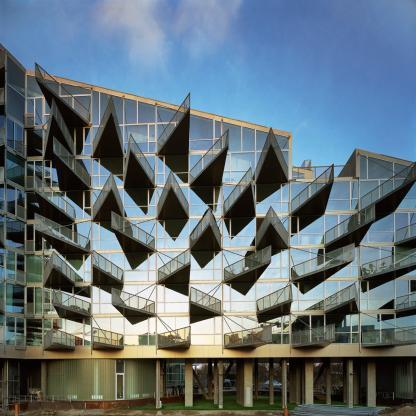Balcony: (34, 62, 90, 128), (360, 161, 416, 213), (292, 242, 355, 282), (188, 128, 230, 187), (324, 201, 376, 248), (34, 212, 90, 254), (290, 162, 334, 215), (53, 135, 91, 192), (157, 91, 190, 155), (34, 173, 75, 224), (92, 95, 124, 158), (43, 97, 75, 159), (255, 126, 289, 184), (111, 210, 155, 253), (361, 247, 416, 281), (224, 245, 272, 283), (123, 132, 155, 188), (157, 169, 189, 219), (223, 166, 255, 215), (93, 171, 124, 221), (256, 204, 289, 250), (189, 206, 221, 251), (111, 287, 155, 317), (157, 246, 191, 284), (223, 324, 272, 349), (256, 284, 294, 316), (361, 326, 416, 348), (43, 250, 75, 287), (53, 288, 92, 318), (291, 323, 335, 349), (92, 249, 123, 285), (325, 282, 359, 314), (189, 286, 221, 316), (293, 165, 356, 180), (157, 325, 191, 349), (43, 328, 75, 351), (92, 327, 124, 349), (394, 223, 416, 245)
Building Outline: (0, 43, 416, 412)
Door: (380, 246, 394, 277), (175, 187, 189, 216), (310, 248, 324, 277), (310, 182, 323, 212), (256, 283, 269, 312), (124, 221, 137, 250), (396, 280, 409, 309), (325, 281, 338, 310), (242, 251, 255, 280), (190, 284, 203, 313), (189, 220, 202, 249), (189, 155, 202, 184), (242, 185, 255, 214), (256, 218, 269, 247), (395, 213, 408, 242), (380, 181, 393, 210), (60, 96, 73, 124), (176, 252, 189, 280), (311, 315, 324, 343), (381, 314, 394, 342), (326, 215, 338, 245), (111, 254, 124, 281), (124, 286, 137, 313), (111, 318, 123, 346), (61, 223, 73, 251), (125, 157, 137, 185), (176, 123, 188, 151), (176, 317, 188, 345), (243, 316, 255, 344), (53, 319, 65, 346), (60, 287, 72, 314), (53, 255, 65, 282), (53, 192, 65, 219), (61, 160, 72, 187), (116, 374, 124, 400)
Facade: (25, 61, 416, 411)
Floor Slab: (25, 209, 416, 223), (25, 242, 416, 254), (25, 178, 359, 192), (25, 276, 416, 286), (25, 149, 289, 160), (26, 343, 416, 349), (26, 124, 91, 129)
Glass Wall: (31, 359, 115, 400), (362, 359, 416, 399), (93, 91, 124, 154), (124, 98, 155, 153), (157, 106, 188, 152), (360, 155, 416, 179), (45, 128, 91, 156), (60, 83, 91, 124), (124, 359, 155, 400), (189, 114, 221, 150), (325, 247, 359, 277), (290, 215, 324, 245), (360, 213, 394, 243), (360, 280, 394, 309), (324, 181, 358, 210), (223, 122, 255, 152), (291, 281, 324, 310), (256, 250, 289, 279), (256, 184, 289, 213), (256, 151, 289, 180), (157, 284, 189, 313), (223, 283, 255, 312), (223, 218, 255, 247), (189, 186, 221, 215), (223, 152, 255, 181), (326, 315, 359, 343), (257, 316, 290, 344), (26, 287, 59, 315), (92, 221, 123, 250), (157, 155, 188, 184), (190, 317, 222, 345), (92, 286, 124, 314), (124, 253, 156, 281), (189, 252, 221, 280), (157, 220, 189, 248), (124, 317, 155, 345), (92, 190, 123, 218), (124, 189, 155, 217), (92, 158, 123, 186), (26, 75, 43, 125), (44, 78, 59, 125), (66, 254, 91, 282), (66, 191, 91, 219), (66, 319, 91, 346), (256, 130, 289, 150), (394, 179, 416, 209), (395, 246, 416, 276), (396, 314, 416, 343), (291, 249, 310, 279), (360, 247, 379, 277), (361, 314, 380, 343), (203, 284, 222, 313), (223, 251, 242, 280), (339, 214, 358, 243), (360, 181, 379, 210), (223, 317, 242, 345), (292, 315, 310, 344), (340, 281, 358, 310), (157, 252, 175, 281), (203, 153, 221, 182), (291, 183, 309, 212), (92, 318, 110, 346), (138, 285, 156, 313), (203, 219, 221, 247), (223, 186, 241, 214), (157, 188, 175, 216), (272, 217, 289, 246), (157, 318, 175, 345), (73, 287, 91, 314), (93, 254, 110, 282), (138, 221, 155, 249), (138, 156, 155, 184), (26, 129, 43, 157), (26, 256, 43, 283), (26, 224, 43, 251), (74, 223, 91, 250), (74, 159, 91, 186), (26, 192, 42, 220), (26, 160, 42, 188), (44, 160, 60, 188), (26, 319, 42, 346), (44, 224, 59, 251), (44, 192, 52, 219), (44, 255, 51, 283), (44, 319, 51, 346), (410, 279, 416, 309), (410, 213, 416, 241)
Pillar: (367, 359, 377, 407), (305, 360, 314, 405), (185, 362, 192, 406), (347, 360, 353, 409), (155, 359, 160, 409), (282, 360, 287, 409), (326, 362, 331, 405), (219, 360, 223, 409), (270, 363, 274, 405), (42, 361, 46, 400), (255, 363, 259, 400), (214, 362, 217, 405)
Window: (271, 282, 289, 311), (116, 360, 124, 373), (293, 171, 304, 176), (293, 177, 304, 180)
